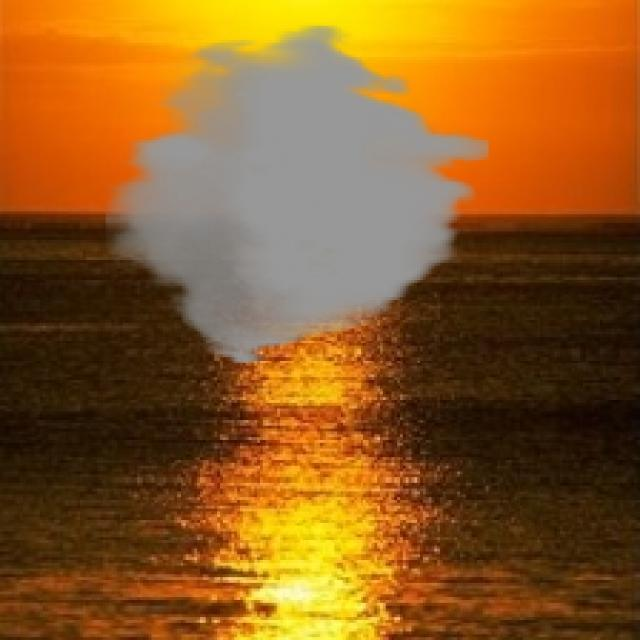Smoke: (106, 23, 488, 366)
